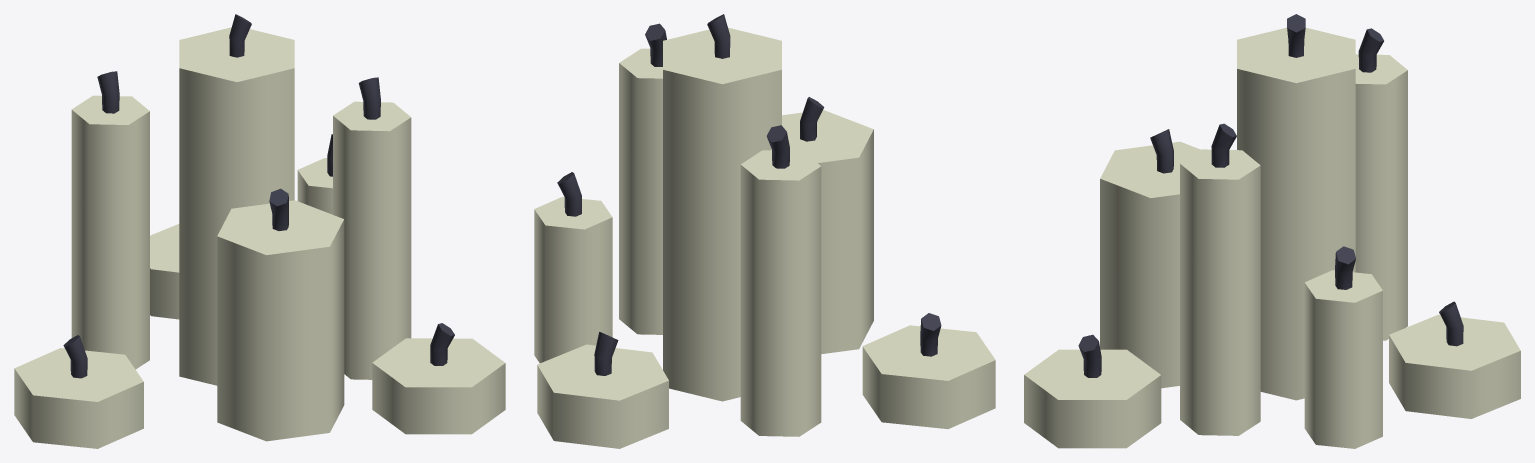
Rendered from Candle_Bundle_01.fbx.
The picture shows the model from 3 angles, left to right: view 1: azimuth 30°, elevation 25°; view 2: azimuth 150°, elevation 25°; view 3: azimuth 270°, elevation 25°; orthographic projection. The views are drawn at different scales.
Visible parts, largest first — view 1: Candle_Bundle; view 2: Candle_Bundle; view 3: Candle_Bundle.
Part boxes in pixels (bbox=[...]): Candle_Bundle: bbox=[14, 14, 505, 448]; Candle_Bundle: bbox=[534, 14, 995, 448]; Candle_Bundle: bbox=[1024, 14, 1520, 448].
Size of the model in its own units: 0.5877 by 0.6316 by 0.501.
